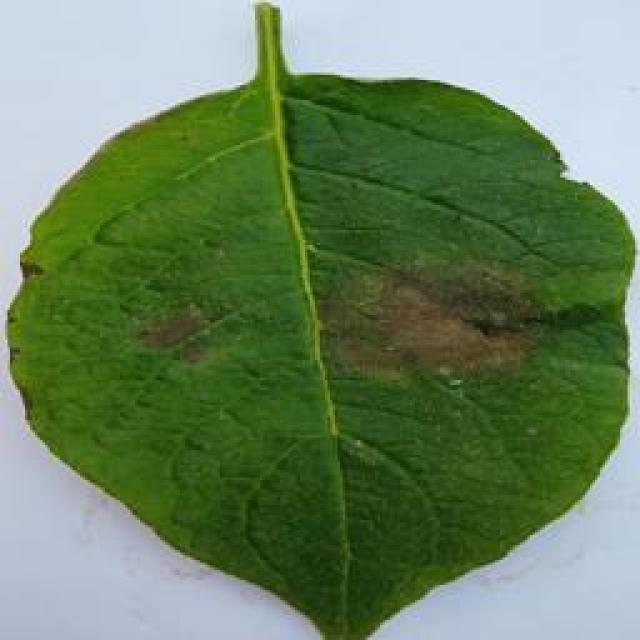Potato_Late_Blight: (9, 12, 618, 638)
